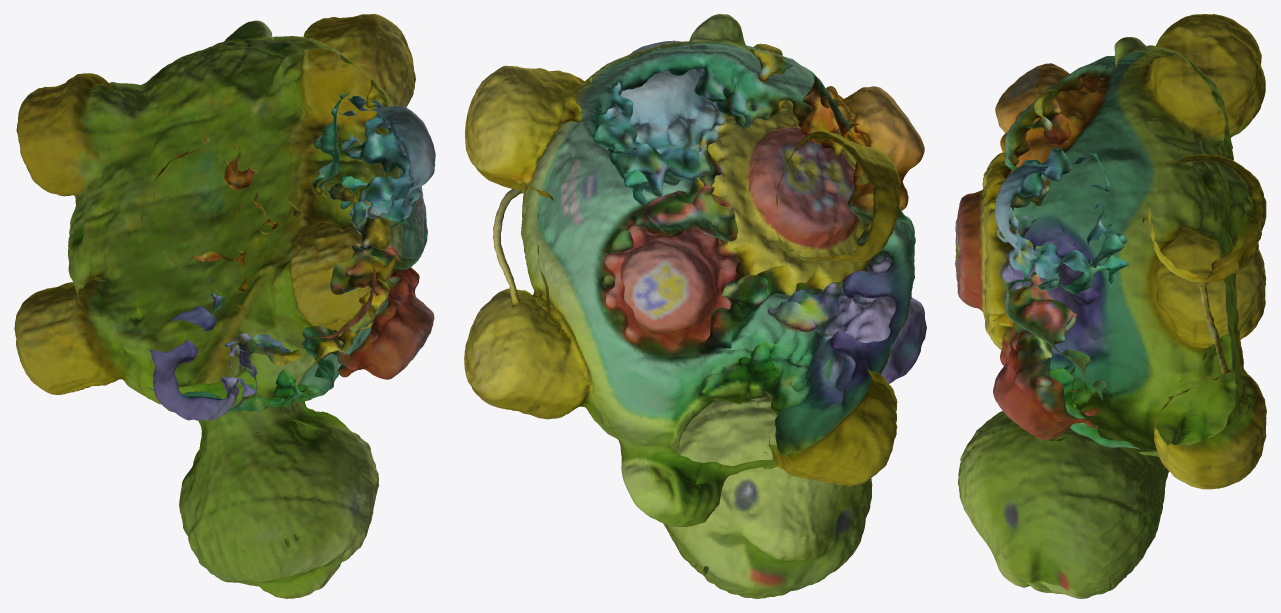
The model's file is turtle.glb.
The picture shows the model from 3 angles, left to right: view 1: azimuth 30°, elevation 25°; view 2: azimuth 150°, elevation 25°; view 3: azimuth 270°, elevation 25°; orthographic projection. The views are drawn at different scales.
Size of the model in its own units: 0.7226 by 1 by 0.5075.
